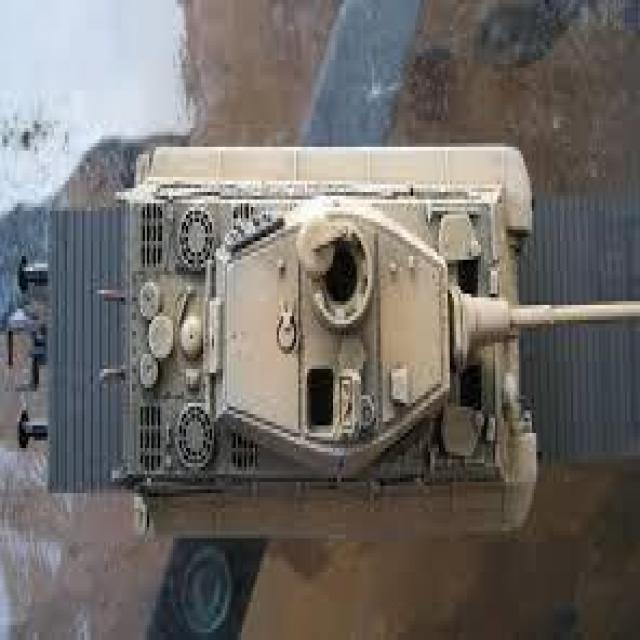Tanks: (111, 136, 554, 538)
